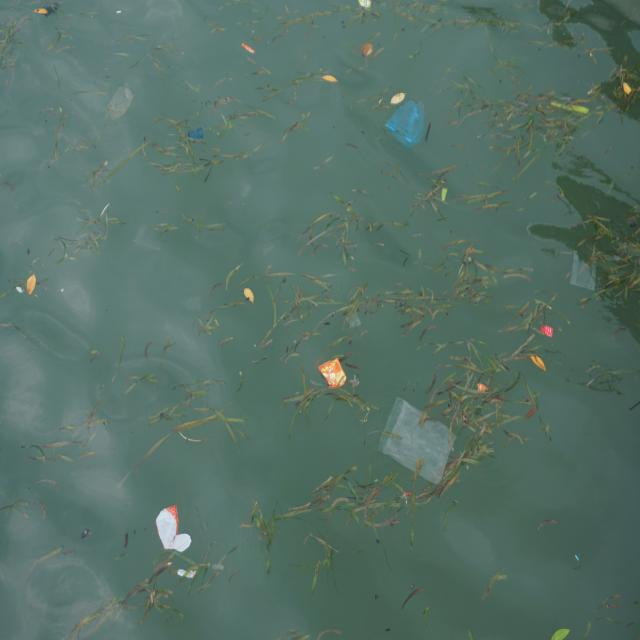Bungkus Makanan: (154, 501, 194, 556), (316, 355, 348, 391)
Bungkus Minuman: (188, 122, 207, 150)
Kantong Plastik: (378, 394, 458, 489), (387, 96, 429, 156), (106, 83, 137, 125), (571, 249, 598, 295)
